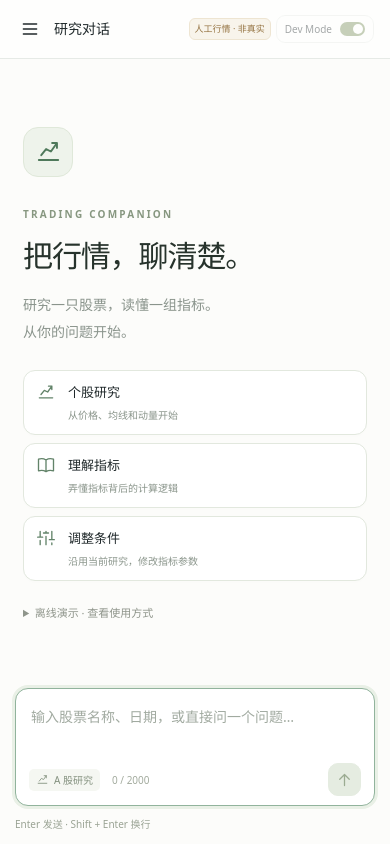
Test: conversation-first workspace › keeps navigation local and does not create additional sessions
Click the button named "展开导航": coordinates (30, 29) [16, 15, 44, 43]
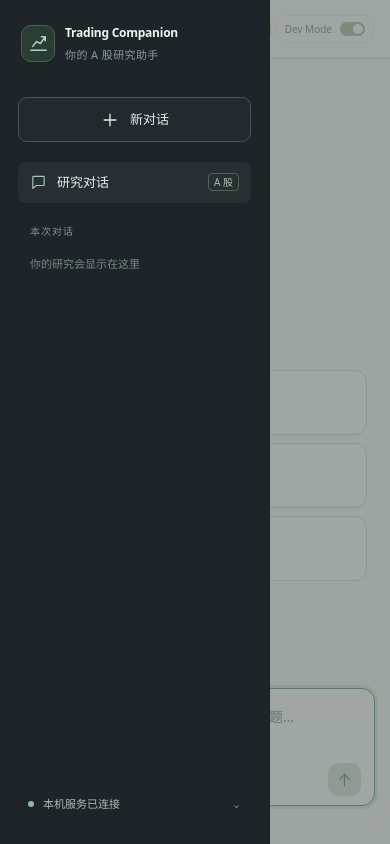
Now the button named "展开导航" is expanded, box [16, 15, 44, 43]
Click the button named "关闭导航": coordinates (367, 422) [0, 0, 389, 843]
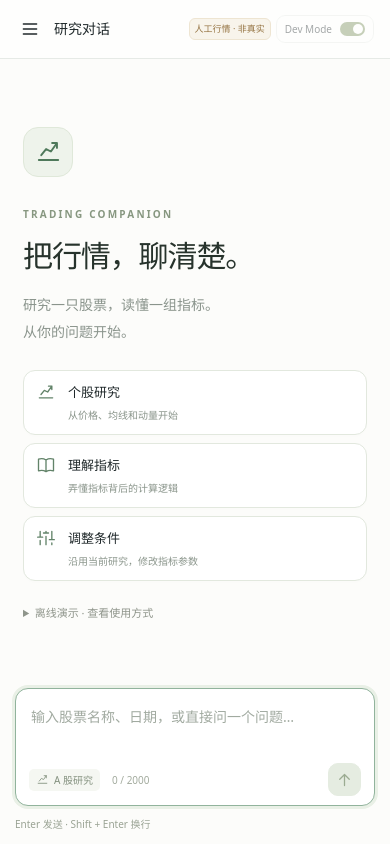
Now the button named "展开导航" is collapsed, box [16, 15, 44, 43]
